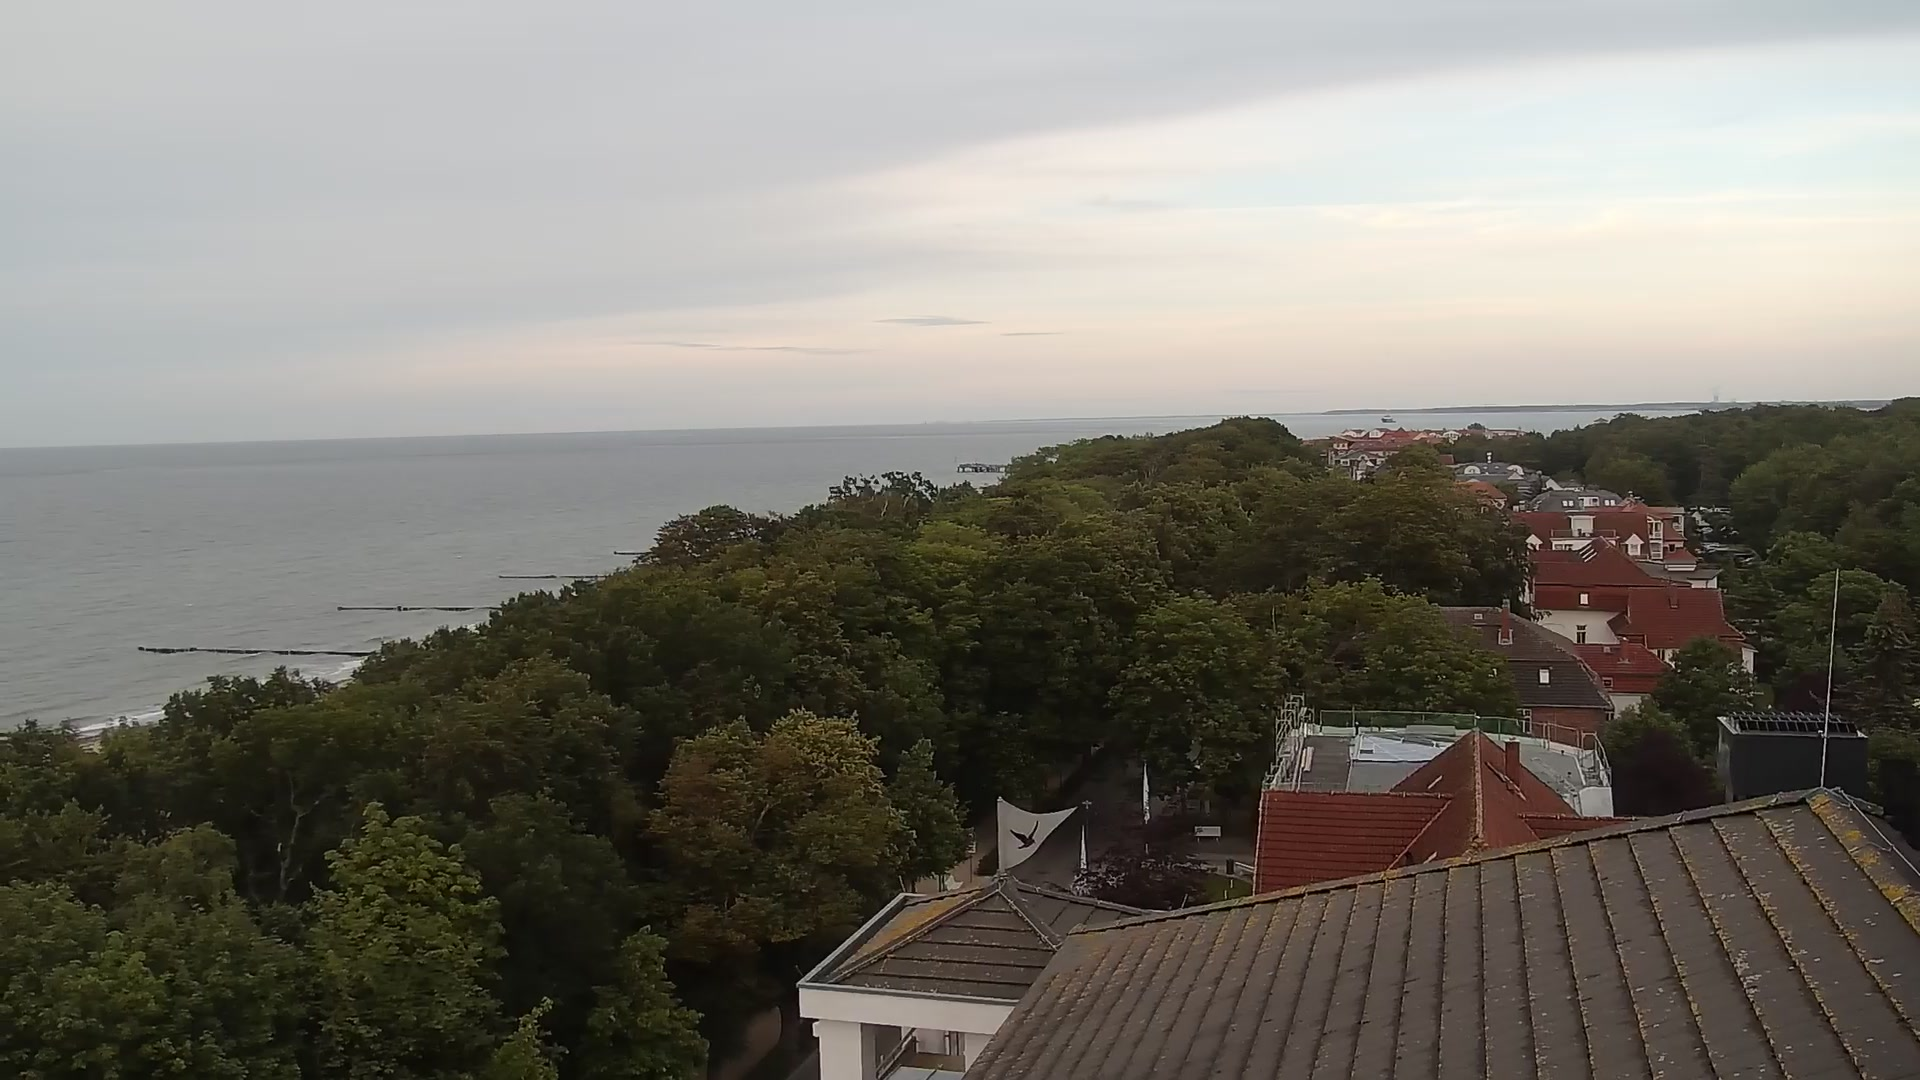sea: (1379, 414, 1395, 422)
